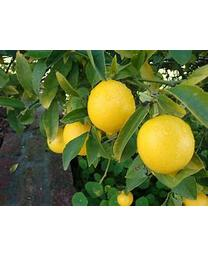lemon: (138, 114, 195, 174), (88, 80, 134, 136)
